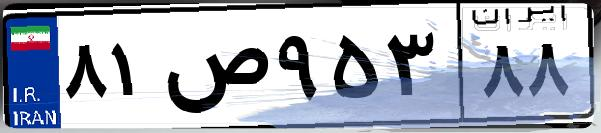1: (110, 28, 158, 98)
3: (385, 28, 445, 110)
5: (330, 28, 385, 110)
8: (57, 26, 110, 100), (475, 38, 525, 113), (525, 38, 570, 115)
9: (270, 28, 330, 110)
ص: (158, 20, 270, 120)
